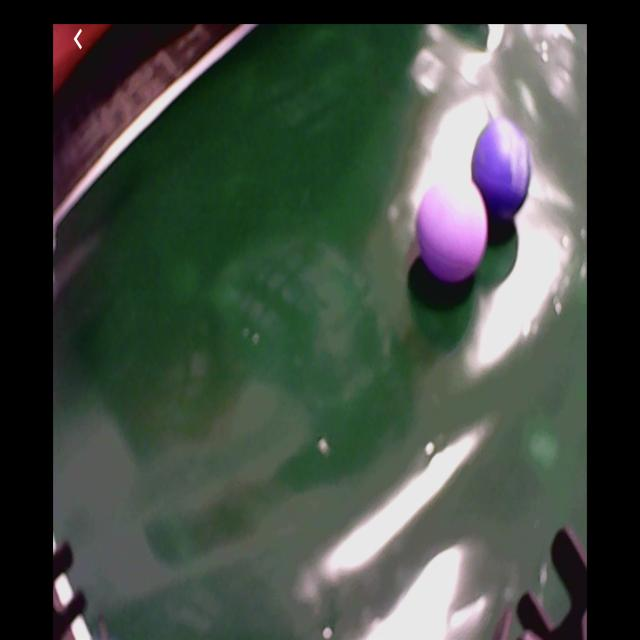ball: (417, 176, 489, 288), (472, 120, 533, 224)
